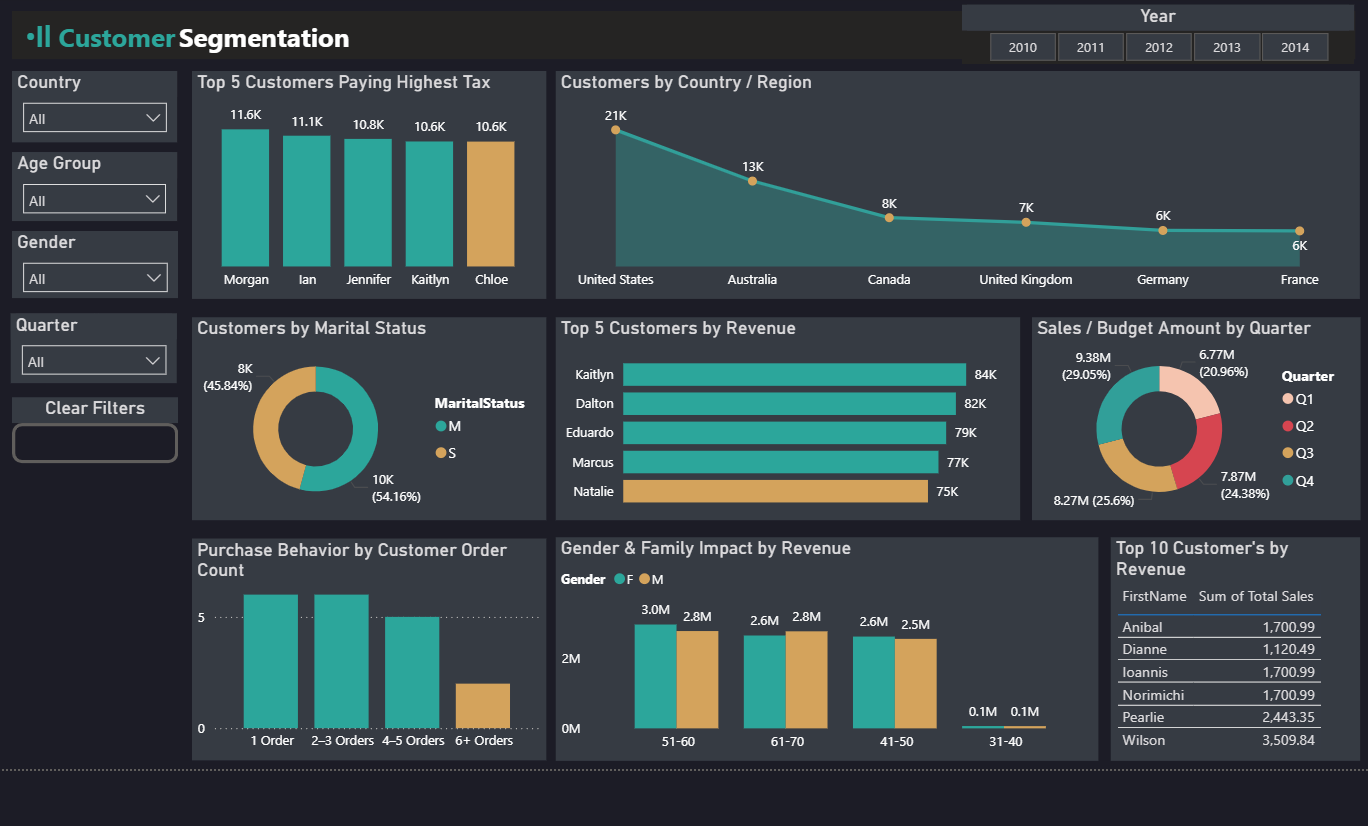

The dashboard page shown, as its layout file describes it:
{"tool":"powerbi","page":{"name":"Page 1","canvas":[1280,720],"ordinal":0},"visuals":[{"type":"actionButton","box":[12.8,448.8,155.8,39.5],"z":0},{"type":"areaChart","title":"Customers by Country / Region","fields":{"Category":["DimSalesTerritory.SalesTerritoryCountry Hierarchy.SalesTerritoryCountry","DimSalesTerritory.SalesTerritoryCountry Hierarchy.SalesTerritoryRegion"],"Y":["CountNonNull(Sales.CustomerKey)"]},"box":[519.9,70.2,748.2,212],"z":1000},{"type":"donutChart","title":"Customers by Marital Status","fields":{"Category":["Dimcustomer.MaritalStatus"],"Y":["Sales.Customer Count"]},"box":[181,298.5,329.5,189.1],"z":2000},{"type":"barChart","title":"Top 5 Customers by Revenue","fields":{"Category":["Dimcustomer.FirstName"],"Y":["Sum(Sheet1.Total Sales)"]},"box":[519.9,298.5,432.2,189.1],"z":3000},{"type":"clusteredColumnChart","title":"Purchase Behavior by Customer Order Count","fields":{"Category":["Sales.Purchase Behavior"],"Y":["Count(Sales.CurrencyKey)"]},"box":[181,505.1,329.5,206.6],"z":4000},{"type":"tableEx","title":"Top 10 Customer''s by Revenue","fields":{"Values":["Dimcustomer.FirstName","Sum(Sheet1.Total Sales)"]},"box":[1035.8,503.7,232.3,208],"z":5000},{"type":"clusteredColumnChart","title":"Gender & Family Impact by Revenue","fields":{"Category":["Dimcustomer.Age Group"],"Series":["Dimcustomer.Gender"],"Y":["Sum(Sheet1.Total Sales)"]},"box":[519.9,503.7,505.1,208],"z":6000},{"type":"donutChart","title":"Sales / Budget Amount by Quarter","fields":{"Y":["Sales.Sales Budget"],"Category":["Sales.Quarter"]},"box":[962.9,298.5,305.2,189.1],"z":7000},{"type":"textbox","box":[13.5,13.5,1249.2,44.6],"z":8000},{"type":"slicer","title":"Country","fields":{"Values":["DimSalesTerritory.SalesTerritoryCountry Hierarchy.SalesTerritoryCountry","DimSalesTerritory.SalesTerritoryCountry Hierarchy.SalesTerritoryRegion"]},"box":[13.5,70.2,154,66.2],"z":9000},{"type":"slicer","title":"Age Group","fields":{"Values":["Dimcustomer.Age Group"]},"box":[14,145.3,153.5,64],"z":10000},{"type":"slicer","title":"Gender","fields":{"Values":["Dimcustomer.Gender"]},"box":[14,218.6,154.7,62.8],"z":11000},{"type":"actionButton","title":"Clear Filters","box":[14,373.3,154.7,61.6],"z":12000},{"type":"clusteredColumnChart","title":"Top 5 Customers Paying Highest Tax","fields":{"Category":["Dimcustomer.FirstName"],"Y":["Sum(Sales.TaxAmt)"]},"box":[181,70.2,329.5,212],"z":13000},{"type":"slicer","title":"Quarter","fields":{"Values":["Sales.Quarter"]},"box":[12.8,295.3,154.7,65.1],"z":14000},{"type":"slicer","title":"Year","fields":{"Values":["Sales.Year"]},"box":[898.1,8.1,364.6,55.4],"z":15000}]}

Visuals, with their boxes on the page's 1280x720 design canvas (x1, y1, x2, y2). These are canvas units, not pixel positions in the 1368x826 screenshot, which may show the page scaled, cropped or inside an application window:
actionButton: 13 449 169 488
"Customers by Country / Region" areaChart: 520 70 1268 282
"Customers by Marital Status" donutChart: 181 298 510 488
"Top 5 Customers by Revenue" barChart: 520 298 952 488
"Purchase Behavior by Customer Order Count" clusteredColumnChart: 181 505 510 712
"Top 10 Customer''s by Revenue" tableEx: 1036 504 1268 712
"Gender & Family Impact by Revenue" clusteredColumnChart: 520 504 1025 712
"Sales / Budget Amount by Quarter" donutChart: 963 298 1268 488
textbox: 14 14 1263 58
"Country" slicer: 14 70 168 136
"Age Group" slicer: 14 145 168 209
"Gender" slicer: 14 219 169 281
"Clear Filters" actionButton: 14 373 169 435
"Top 5 Customers Paying Highest Tax" clusteredColumnChart: 181 70 510 282
"Quarter" slicer: 13 295 168 360
"Year" slicer: 898 8 1263 64
